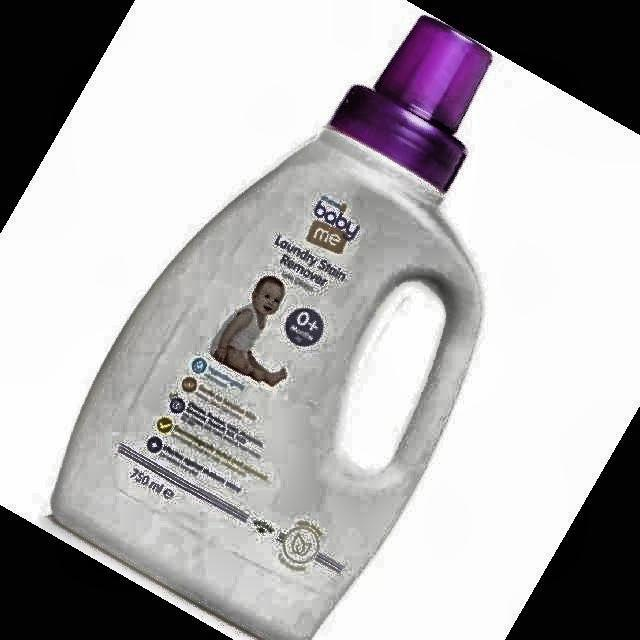plastic: (52, 18, 491, 640)
